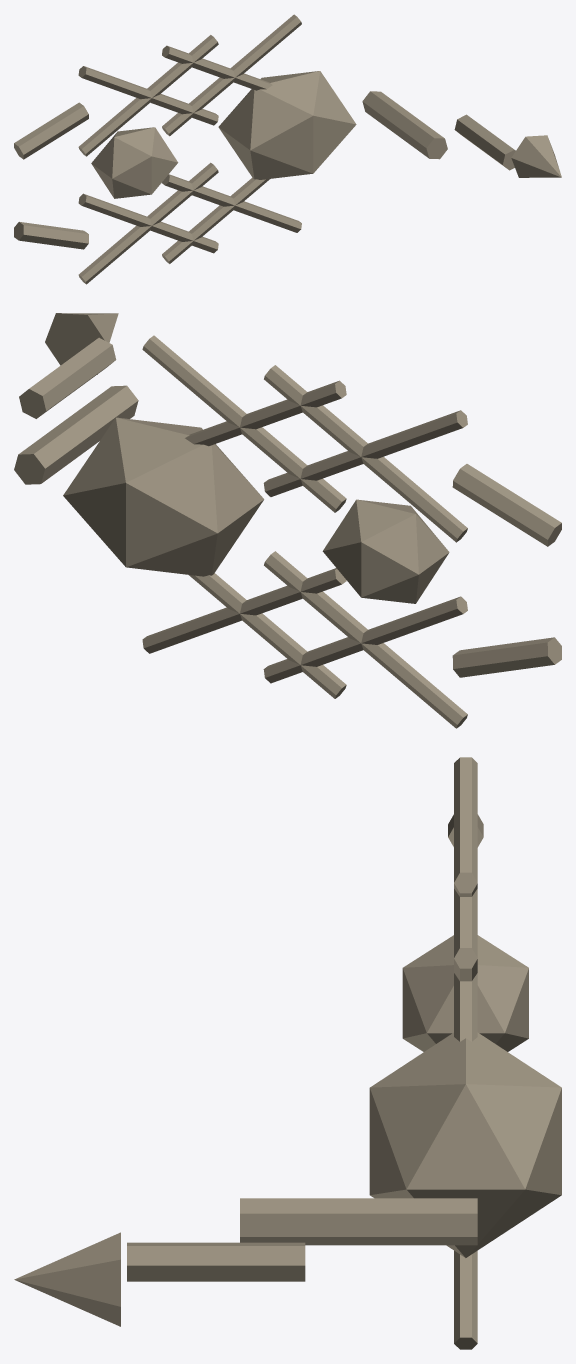
The model's file is scorpion.glb.
3 renders of one model, top to bottom at view 1: azimuth 30°, elevation 25°; view 2: azimuth 150°, elevation 25°; view 3: azimuth 270°, elevation 25°, orthographic. The views are drawn at different scales.
Parts seen in each view (by area): view 1: world; view 2: world; view 3: world.
Boxes of the visible parts, bbox=[...] form: world: bbox=[14, 14, 561, 284]; world: bbox=[14, 313, 561, 728]; world: bbox=[14, 757, 561, 1349].
Size of the model in its own units: 1.61 by 0.745 by 0.9216.
